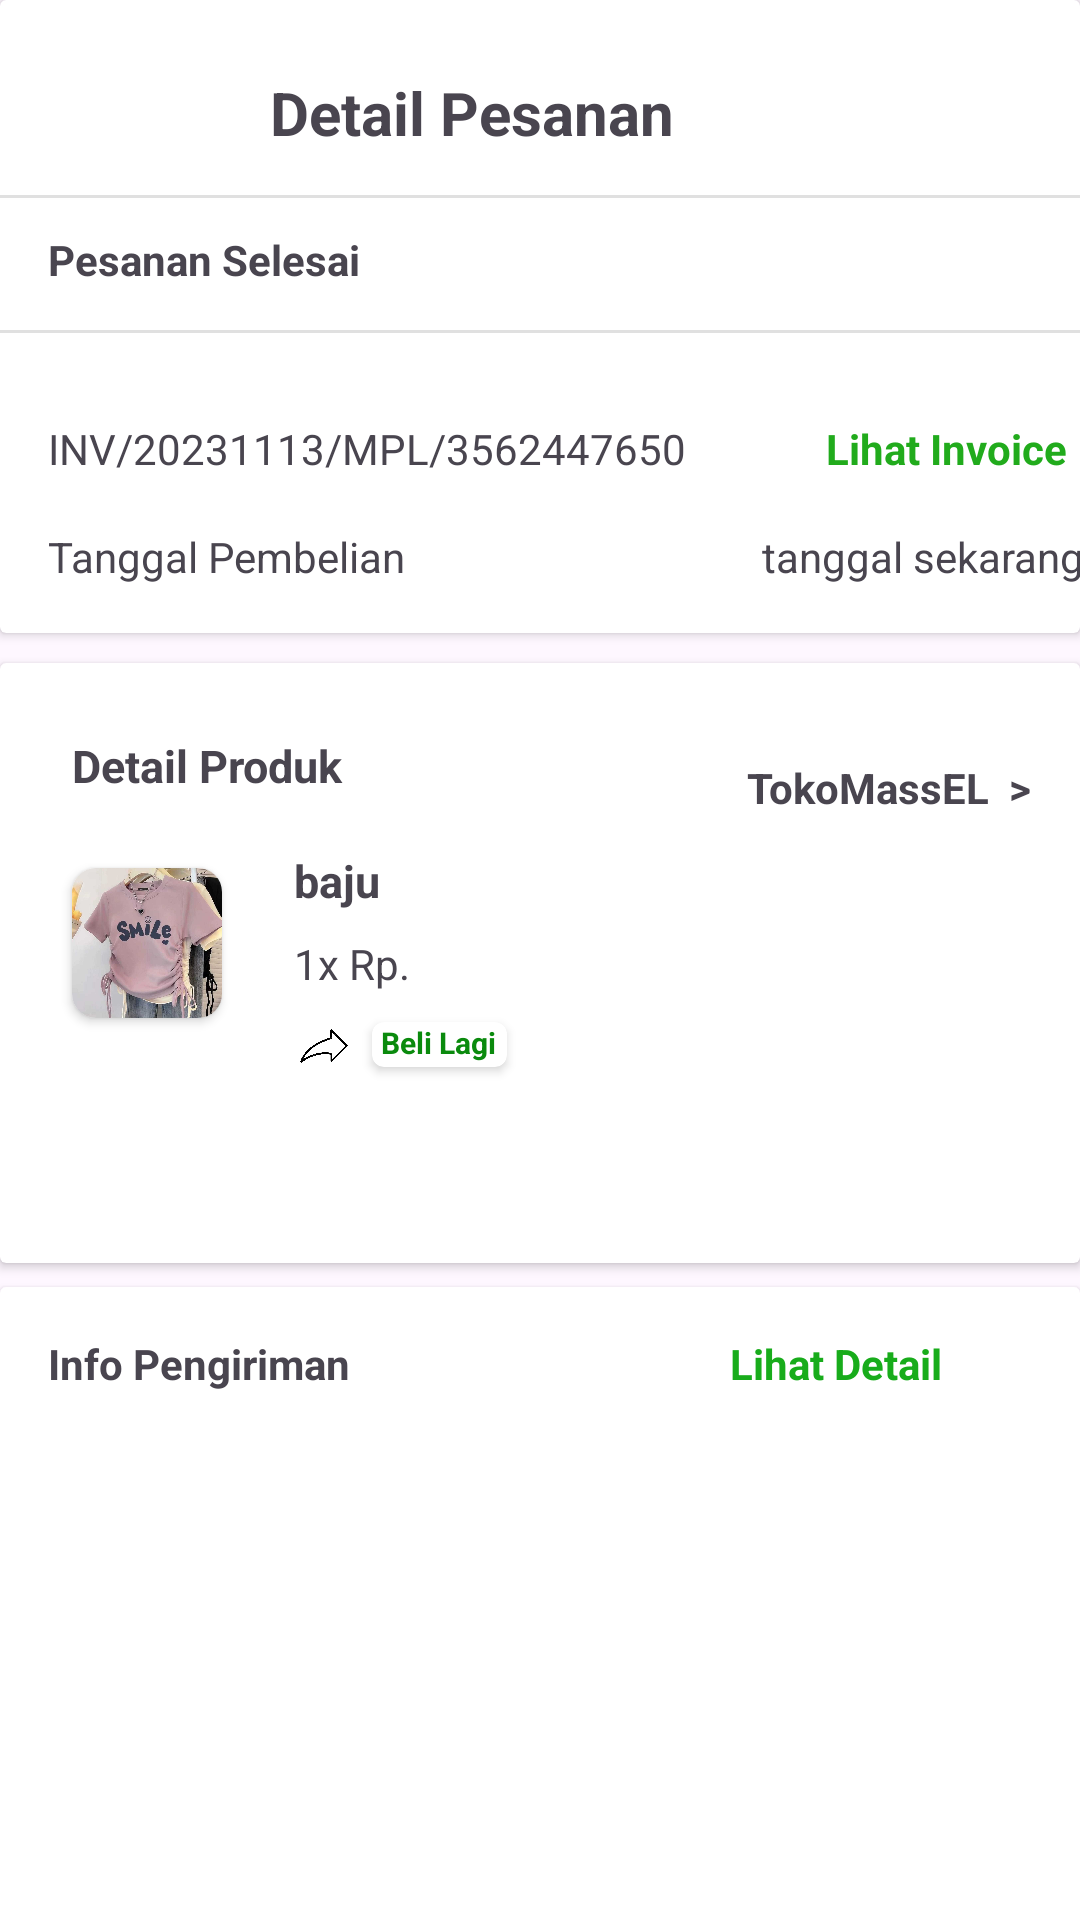

Where icons sit on this 1080w x 1920h app screen, as (x1, y1, x2, y2):
bagikan: (300, 1029, 348, 1063)
